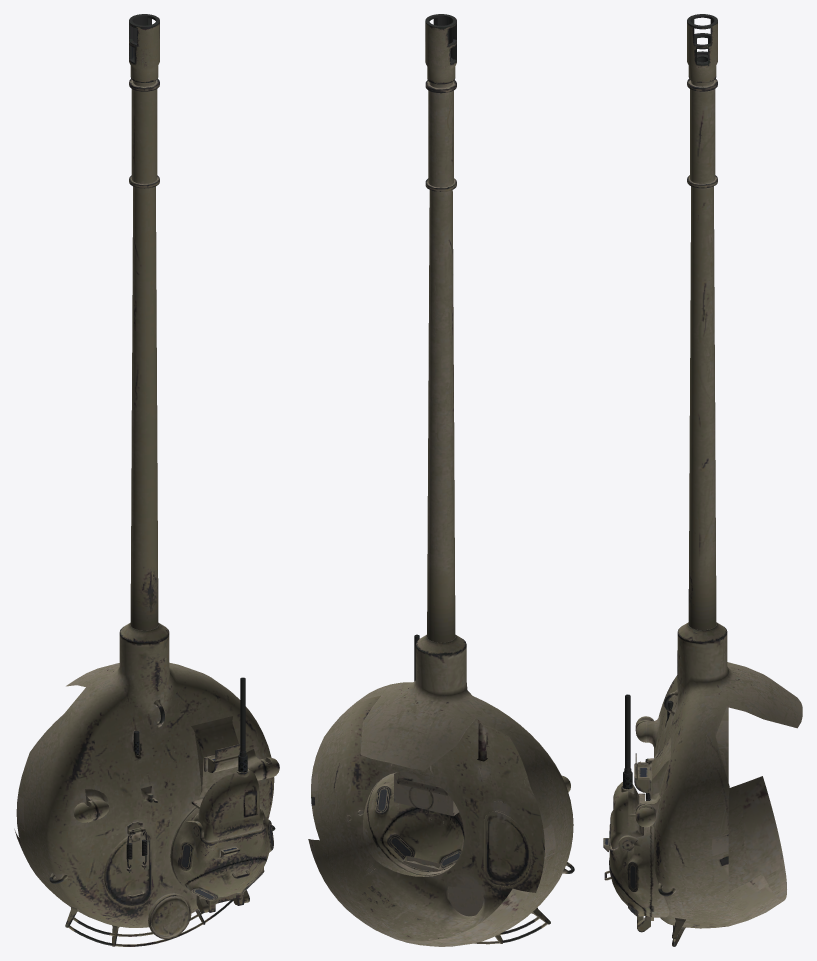
Rendered from Gun_01.glb.
The picture shows the model from 3 angles, left to right: view 1: azimuth 30°, elevation 25°; view 2: azimuth 150°, elevation 25°; view 3: azimuth 270°, elevation 25°; orthographic projection. The views are drawn at different scales.
Parts seen in each view (by area): view 1: set_0_group_0; view 2: set_0_group_0; view 3: set_0_group_0.
Boxes of the visible parts, box(x1,y1,x2,y2) form: set_0_group_0: box(14, 14, 279, 946); set_0_group_0: box(308, 14, 574, 946); set_0_group_0: box(603, 14, 802, 946).
Bounding box in the file's own units: 2.32 × 8.67 × 1.72.
1 material, 1 textured.
